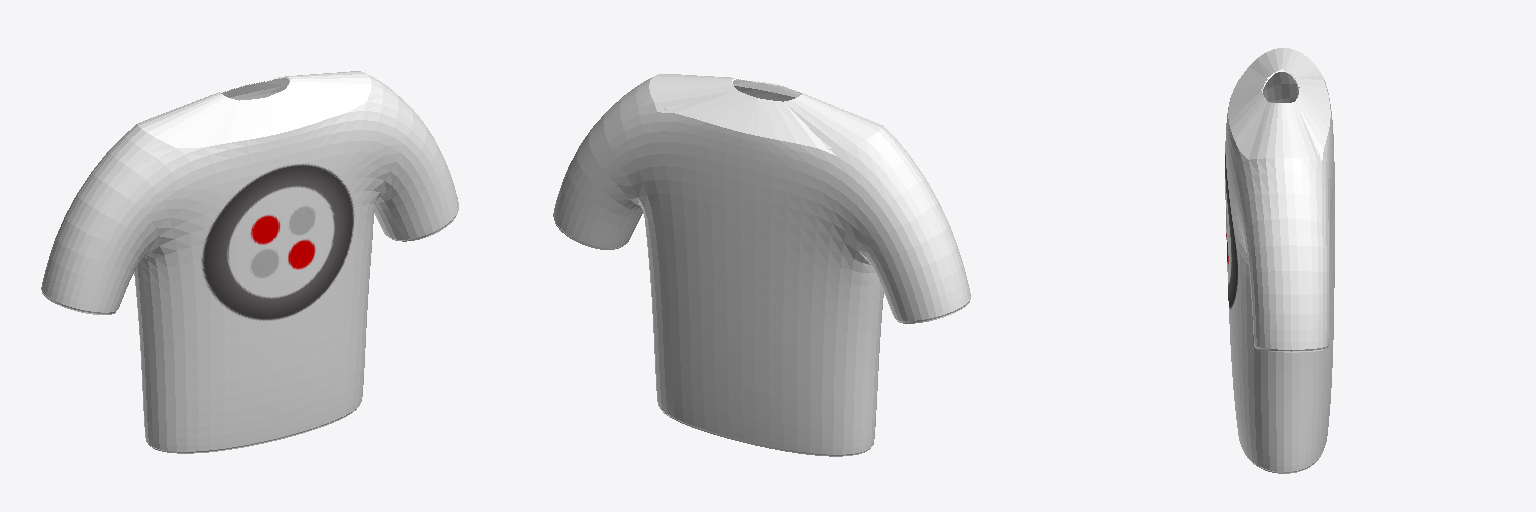
3 views of the same model, side by side, from view 1: azimuth 30°, elevation 25°; view 2: azimuth 150°, elevation 25°; view 3: azimuth 270°, elevation 25° (orthographic).
Visible parts, largest first — view 1: Cube_Cube.001; view 2: Cube_Cube.001; view 3: Cube_Cube.001.
Part boxes in pixels (x1,y1,x2,y2): Cube_Cube.001: (41,71,458,453); Cube_Cube.001: (553,74,970,456); Cube_Cube.001: (1225,48,1334,473).
Size of the model in its own units: 2.53 by 2.01 by 0.5904.
1 materials, 1 textured.